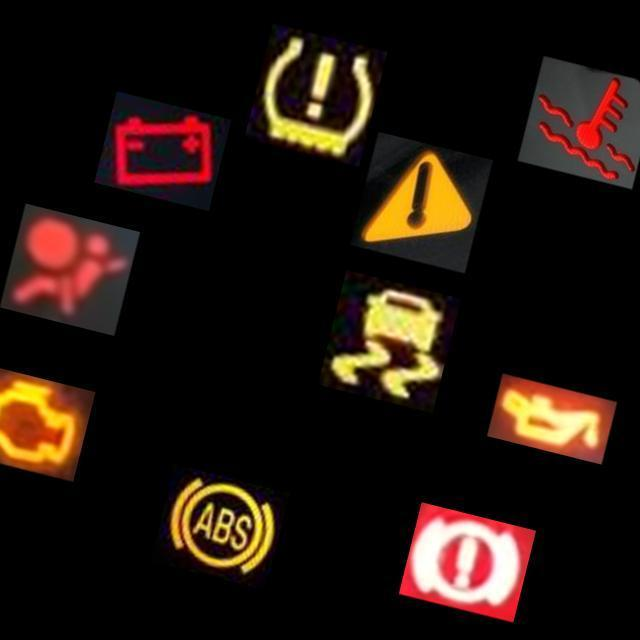Central Warning lamp: (350, 131, 492, 273)
Engine cooling system: (517, 56, 640, 189)
